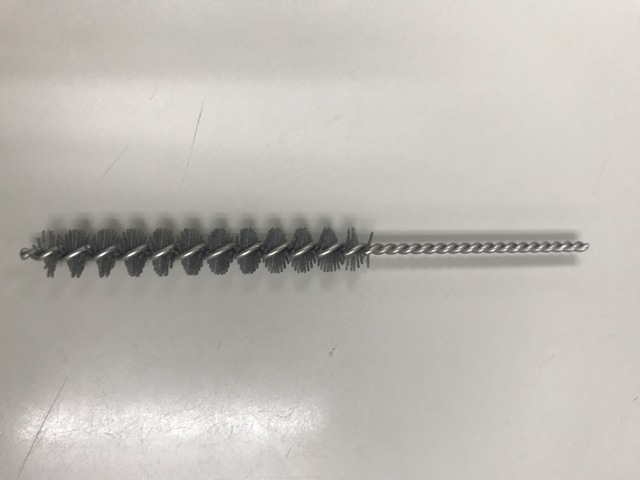Twist Brush-A: (18, 225, 591, 278)
